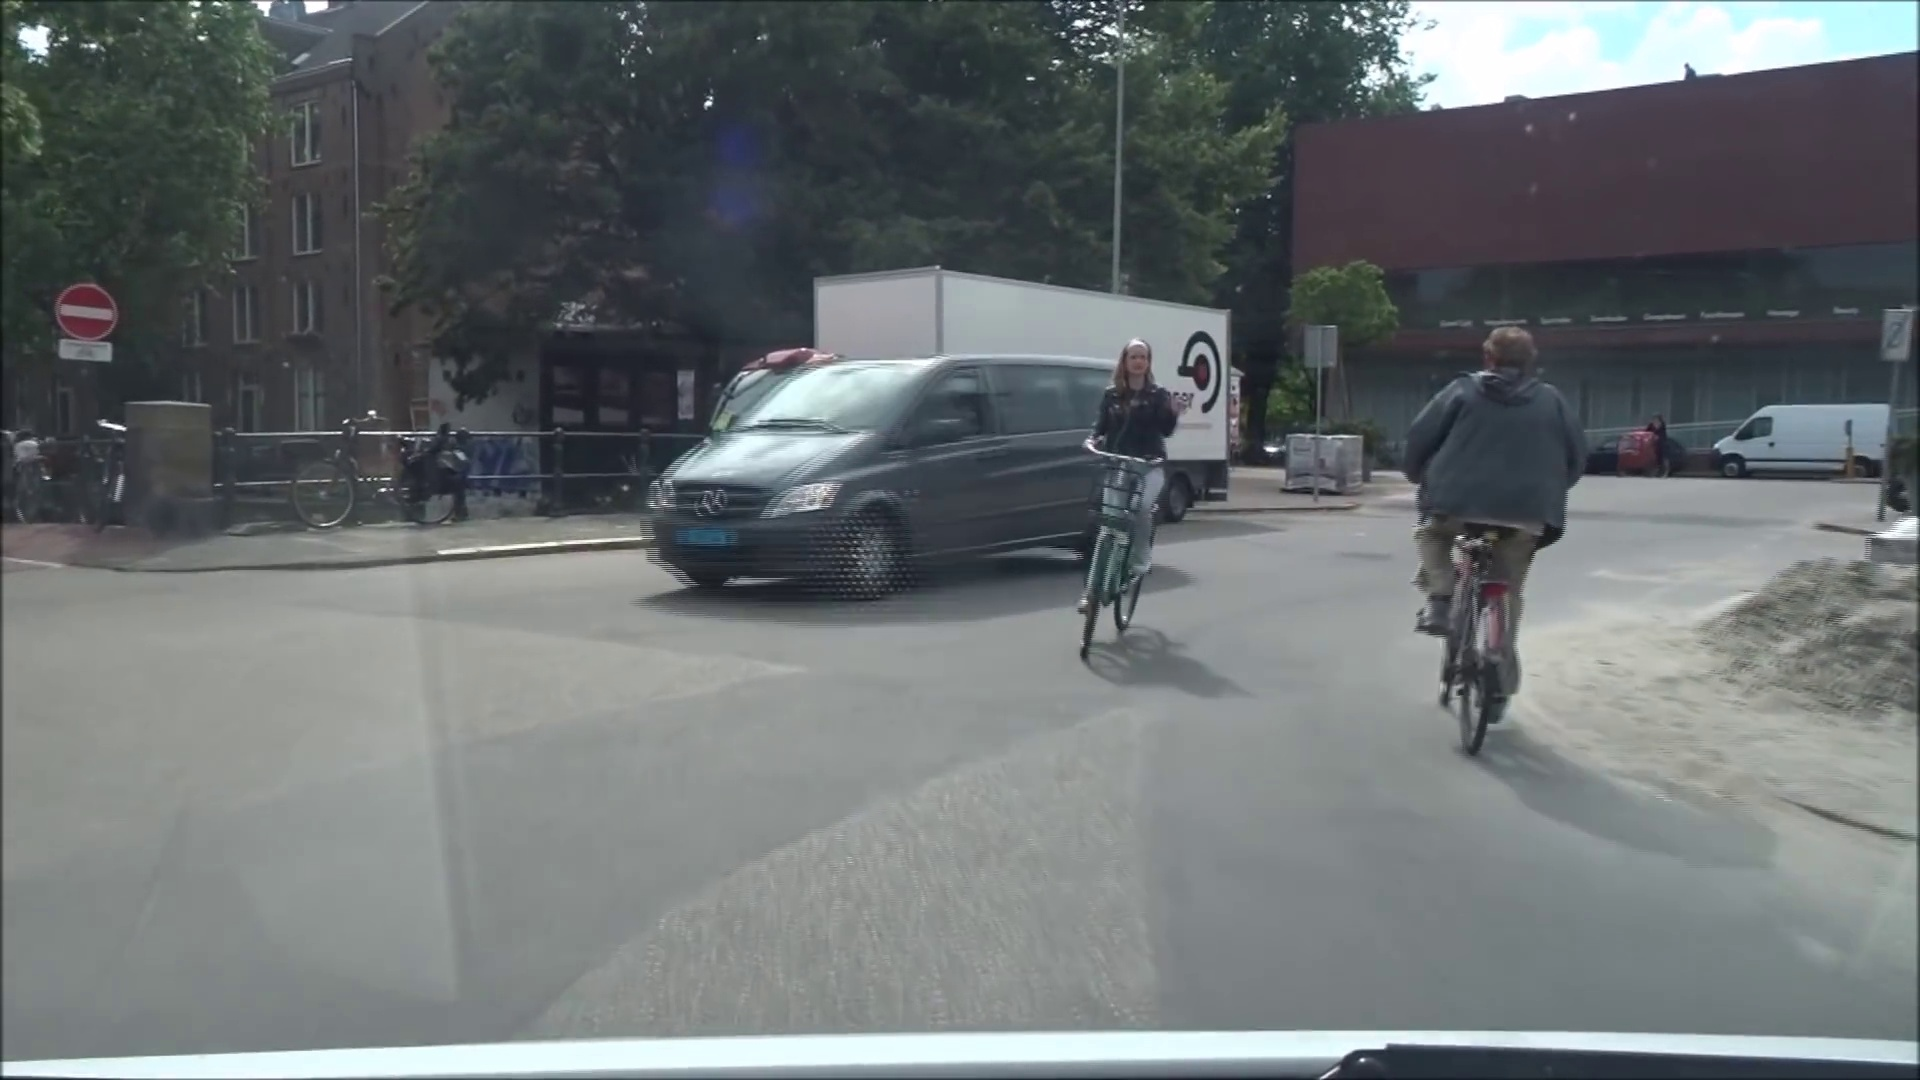cyclist_back: (1393, 316, 1568, 758)
cyclist_front: (1076, 333, 1185, 679)
